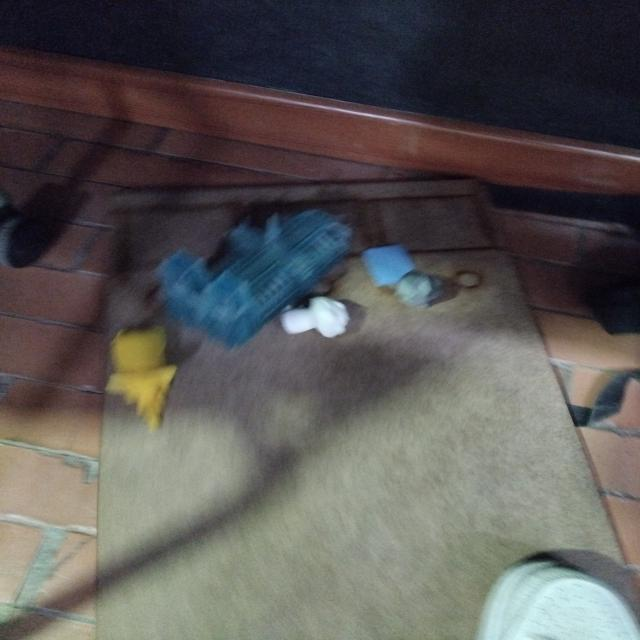Hongo: (274, 290, 359, 343)
